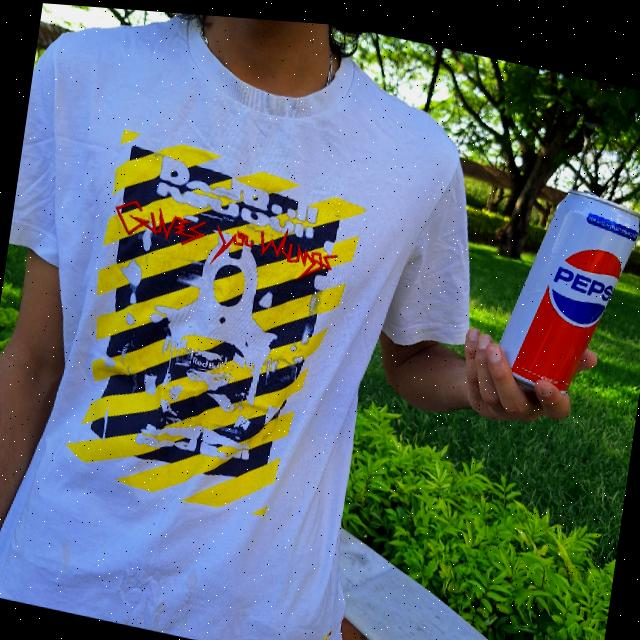Predator: (481, 174, 640, 396)
